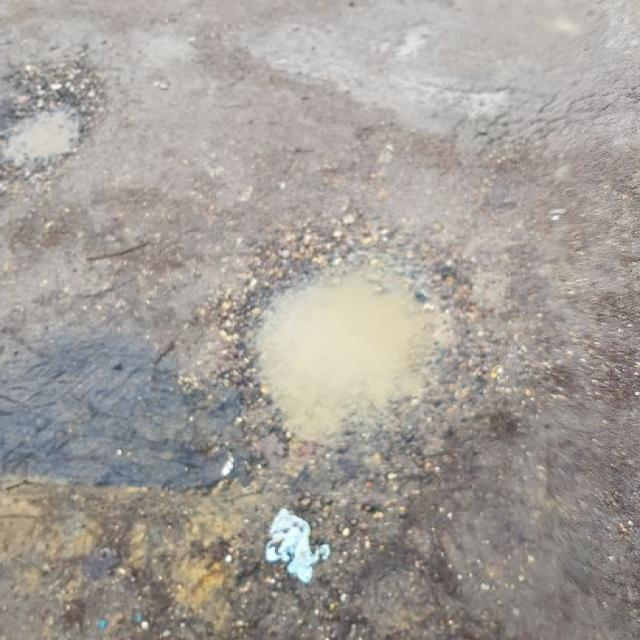pothole: (214, 221, 494, 451), (3, 56, 107, 170)
